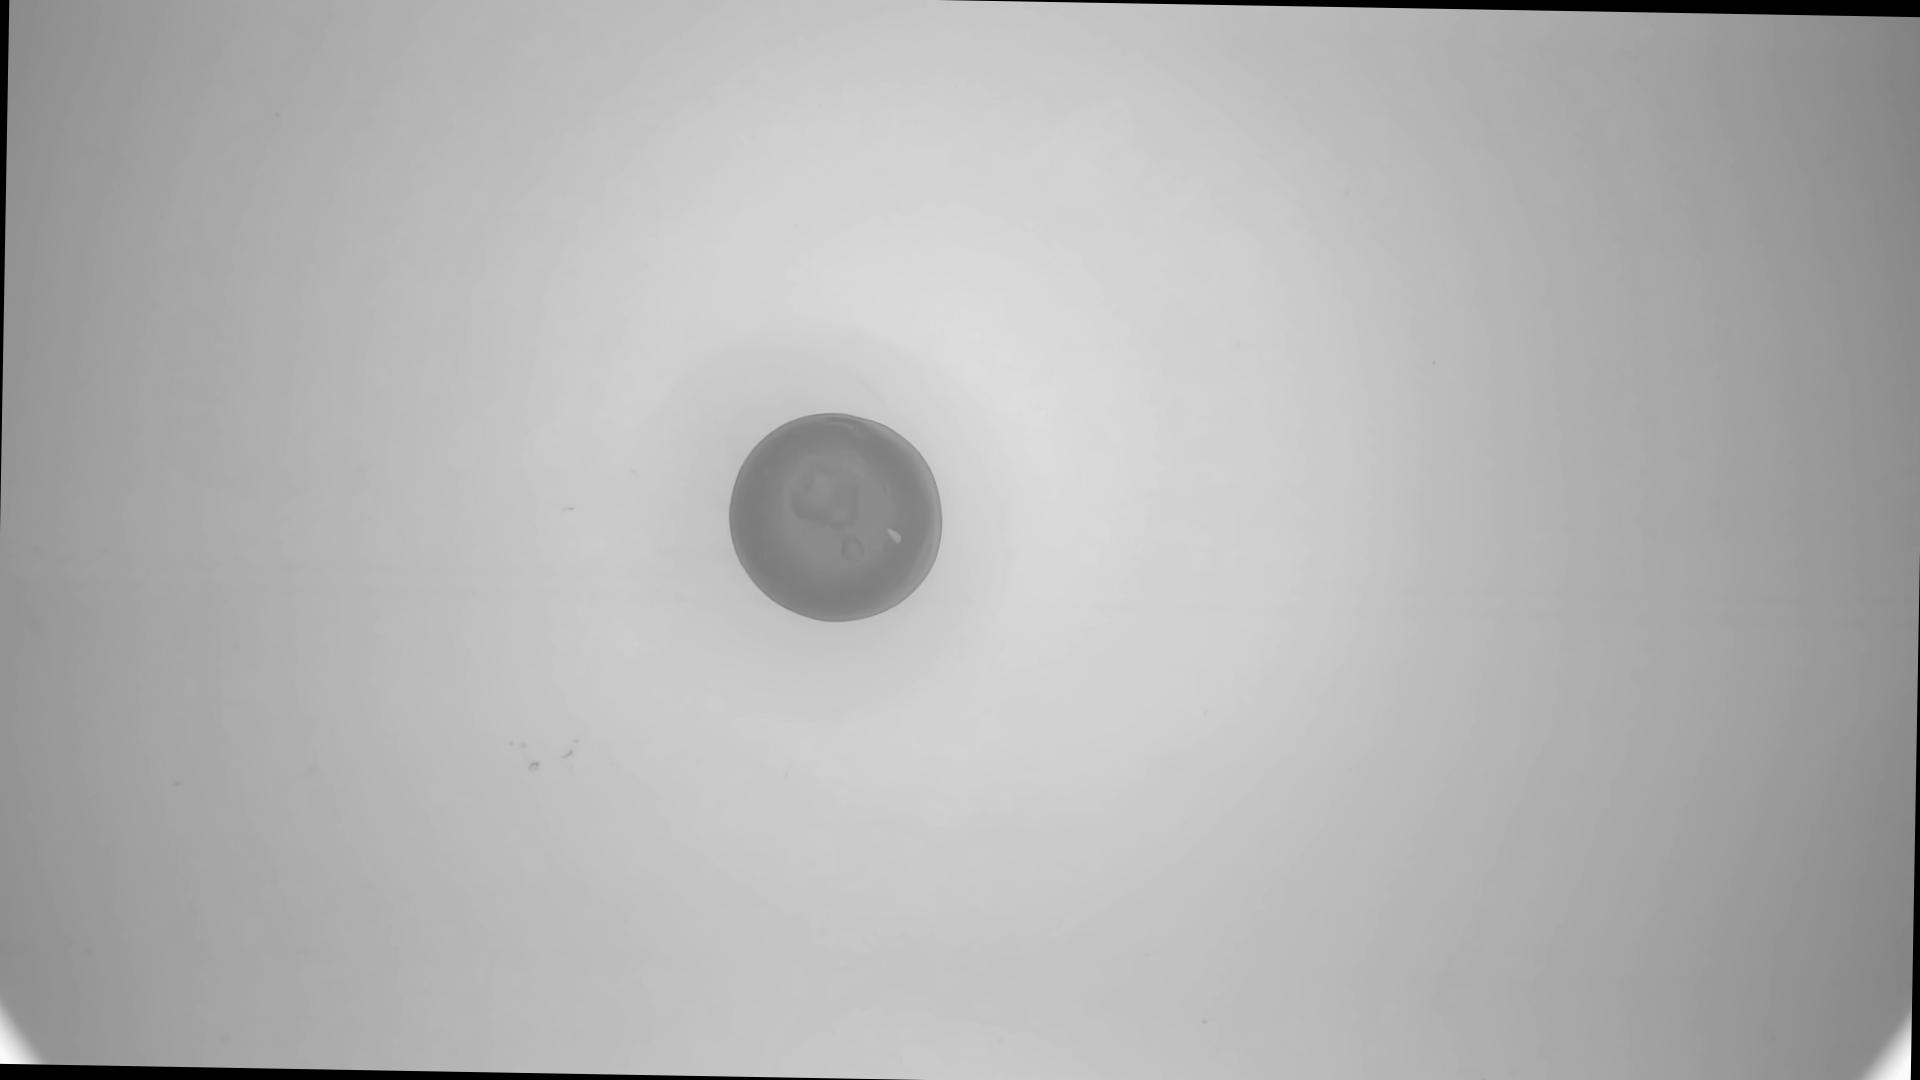abnormal: (728, 409, 948, 626)
